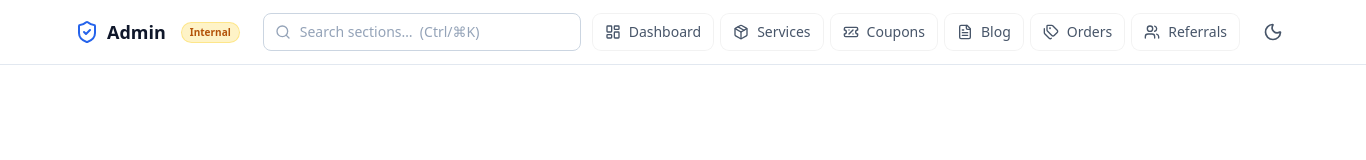
AdminNavbar › should filter links based on search input
Type "blog" into the search field with placeholder "Search sections… (Ctrl/⌘K)" at (422, 32), box [263,13,581,51]
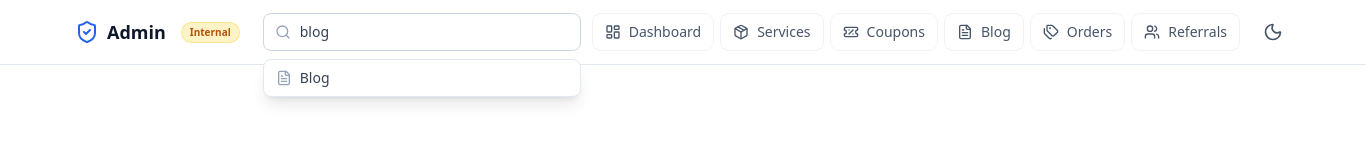
Now the 2nd link "Blog" is shown, box [276,68,330,87]
